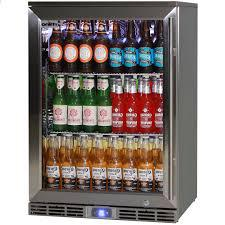beer: (43, 18, 165, 195)
